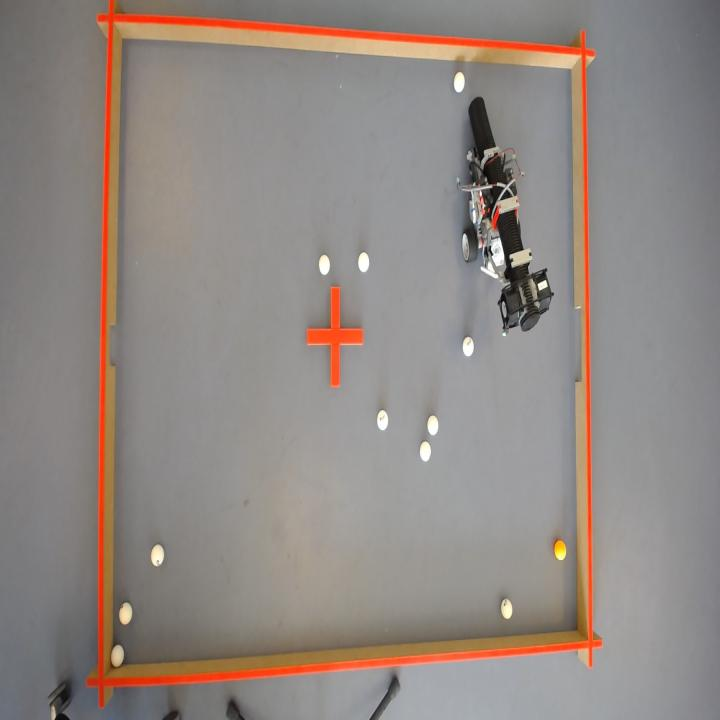orange: (555, 540, 567, 561)
robot: (457, 95, 554, 334)
white: (118, 602, 132, 626), (150, 544, 164, 566), (110, 645, 123, 668), (463, 335, 475, 356), (454, 69, 465, 91), (377, 409, 388, 430), (428, 414, 439, 435), (502, 599, 513, 620), (358, 251, 369, 271), (319, 254, 330, 274), (420, 441, 431, 461)
